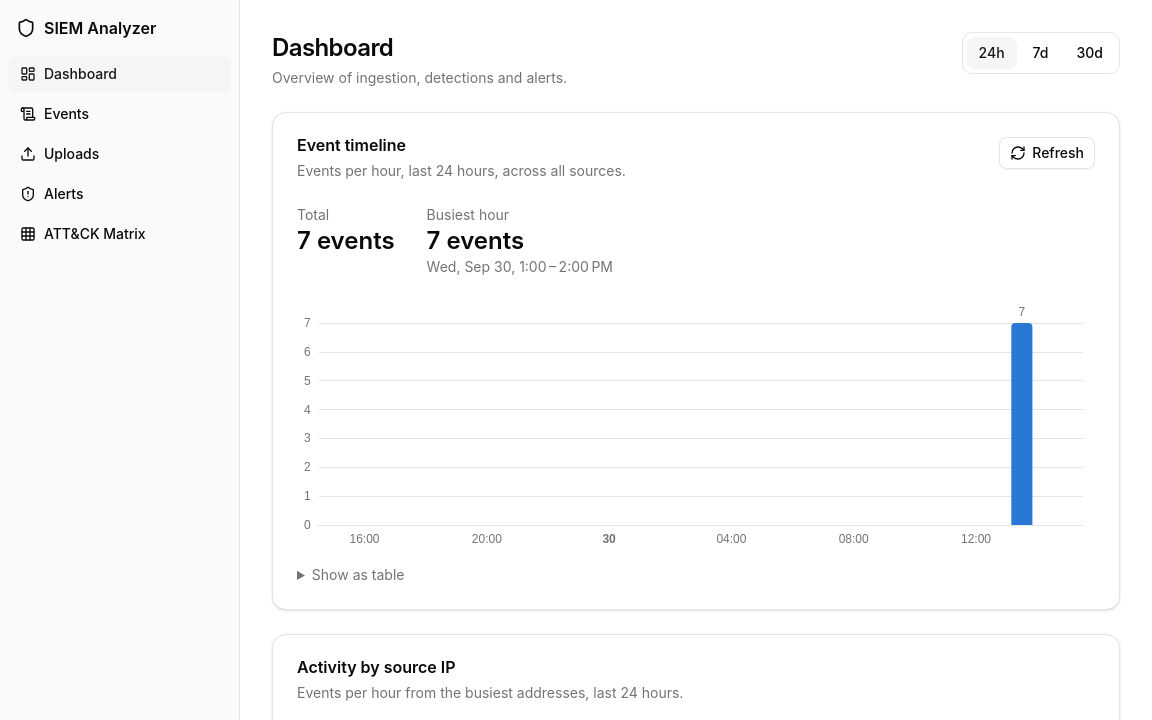
Test: dashboard event timeline › switches range from the header and keeps it in the URL
The width and height of the screenshot is (1152, 720).
Check: the heading "Show as table" is shown, box [312,566,404,583]
Click the button "7d" at (1041, 53), box [1021,37,1061,69]
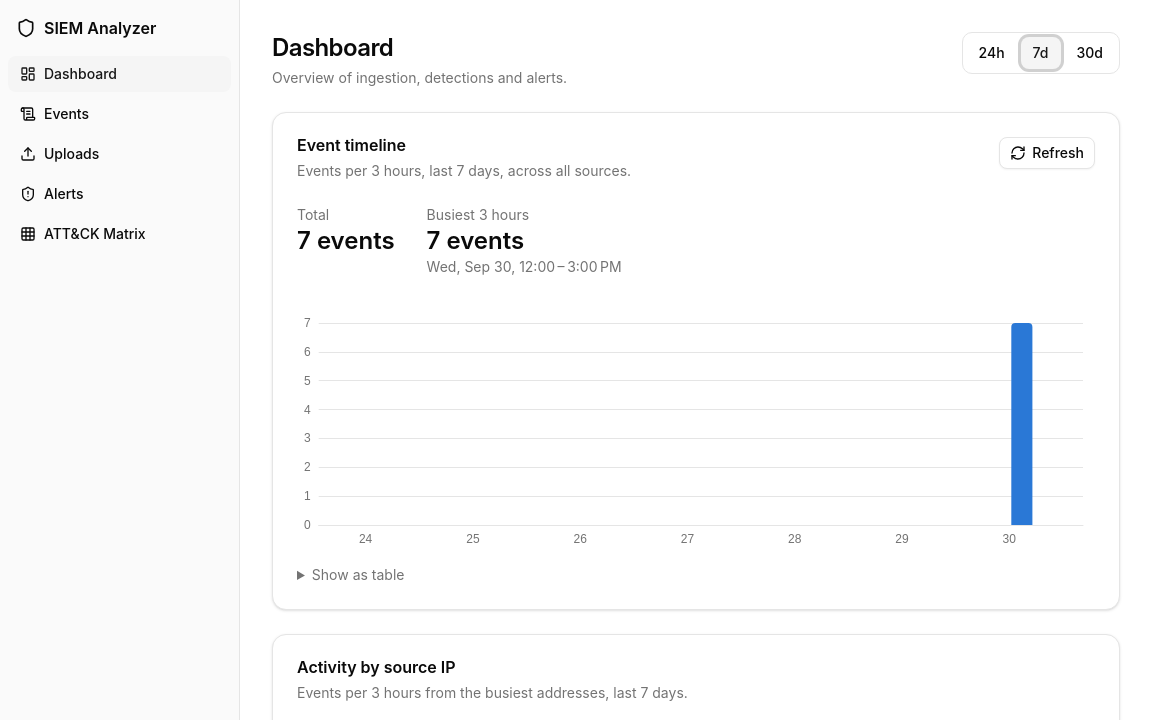
Check: the text "Events per 3 hours, last 7 days, across all sources." is shown, box [297,162,631,179]
